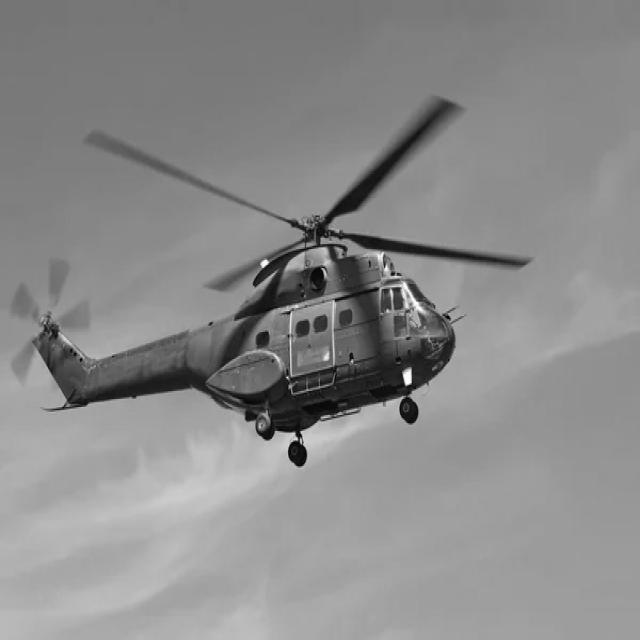Helicopter: (12, 97, 529, 468)
